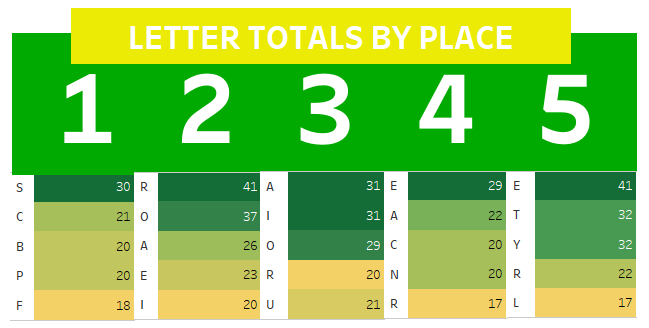

The dashboard page shown, as its layout file describes it:
{"tool":"tableau","page":{"name":"Dashboard 2","canvas":[1000,800],"ordinal":1},"visuals":[{"type":"worksheet","title":"Sheet 20","mark":"Automatic","box":[96,8,500,52]},{"type":"worksheet","title":"HEADER","mark":"Automatic","box":[35,33,625,139]},{"type":"worksheet","title":"PLACE #3","mark":"Square","rows":["third"],"box":[283,171,125,149]},{"type":"worksheet","title":"PLACE #4","mark":"Square","rows":["fourth"],"box":[407,171,123,148]},{"type":"worksheet","title":"PLACE #5","mark":"Square","rows":["fifth"],"box":[530,171,130,147]},{"type":"worksheet","title":"PLACE #1","mark":"Square","rows":["first"],"box":[33,172,125,149]},{"type":"worksheet","title":"PLACE #2","mark":"Square","rows":["second"],"box":[157,172,128,148]}]}

Visuals, with their boxes on the page's 1000x800 design canvas (x1, y1, x2, y2). These are canvas units, not pixel positions in the 649x328 screenshot, which may show the page scaled, cropped or inside an application window:
"Sheet 20" worksheet: region(96, 8, 596, 60)
"HEADER" worksheet: region(35, 33, 660, 172)
"PLACE #3" worksheet (Square marks): region(283, 171, 408, 320)
"PLACE #4" worksheet (Square marks): region(407, 171, 530, 319)
"PLACE #5" worksheet (Square marks): region(530, 171, 660, 318)
"PLACE #1" worksheet (Square marks): region(33, 172, 158, 321)
"PLACE #2" worksheet (Square marks): region(157, 172, 285, 320)
